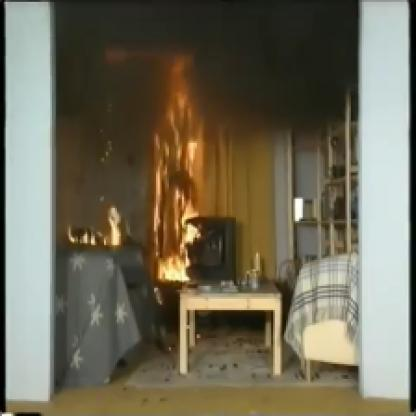fire: (150, 49, 216, 296), (69, 177, 132, 253)
